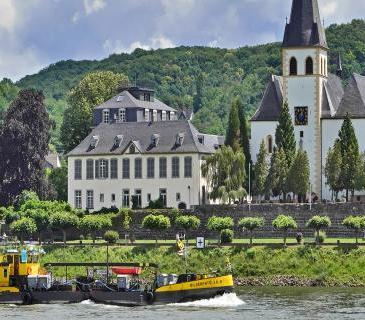Ship: (0, 235, 249, 314)
